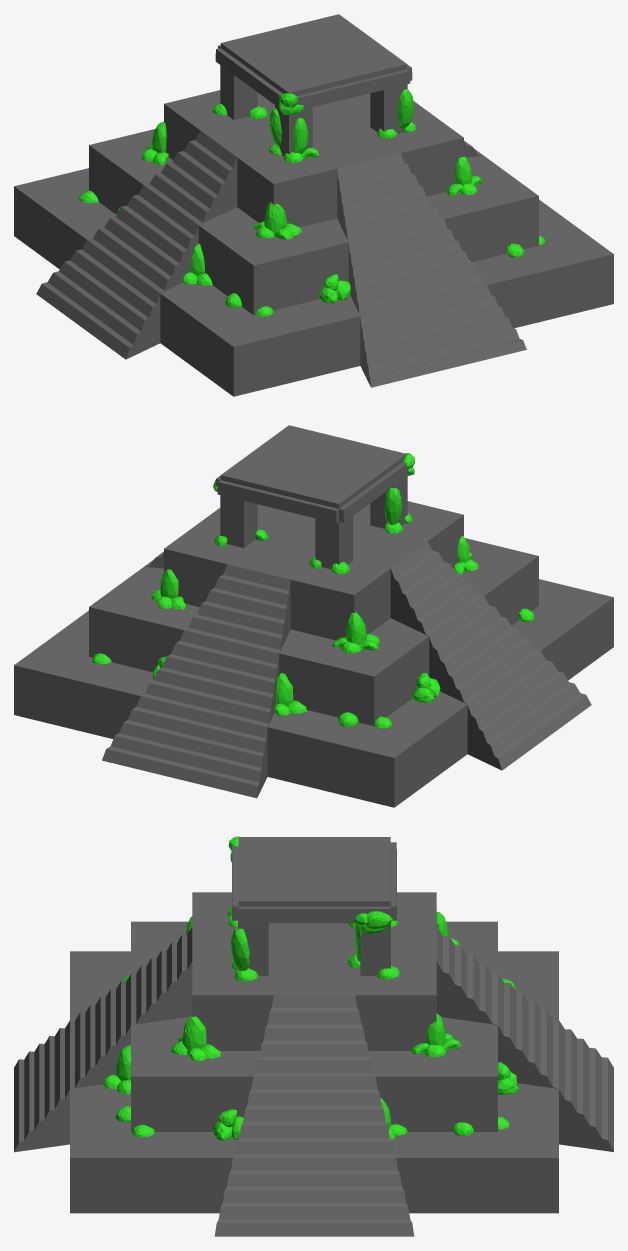
File: StoneAgeTurret2.fbx
3 views of the same model, one above another, from view 1: azimuth 30°, elevation 25°; view 2: azimuth 150°, elevation 25°; view 3: azimuth 270°, elevation 25° (orthographic). The views are drawn at different scales.
Parts seen in each view (by area): view 1: Cube.003, Cube.005; view 2: Cube.003, Cube.005; view 3: Cube.003, Cube.005.
Boxes of the visible parts, x1,y1,x2,y2 form: Cube.003: [14, 89, 613, 396]; Cube.005: [215, 14, 412, 156]; Cube.003: [14, 453, 613, 807]; Cube.005: [215, 425, 409, 569]; Cube.003: [14, 836, 613, 1236]; Cube.005: [232, 837, 396, 975].
Size of the model in its own units: 980 by 435 by 982.
